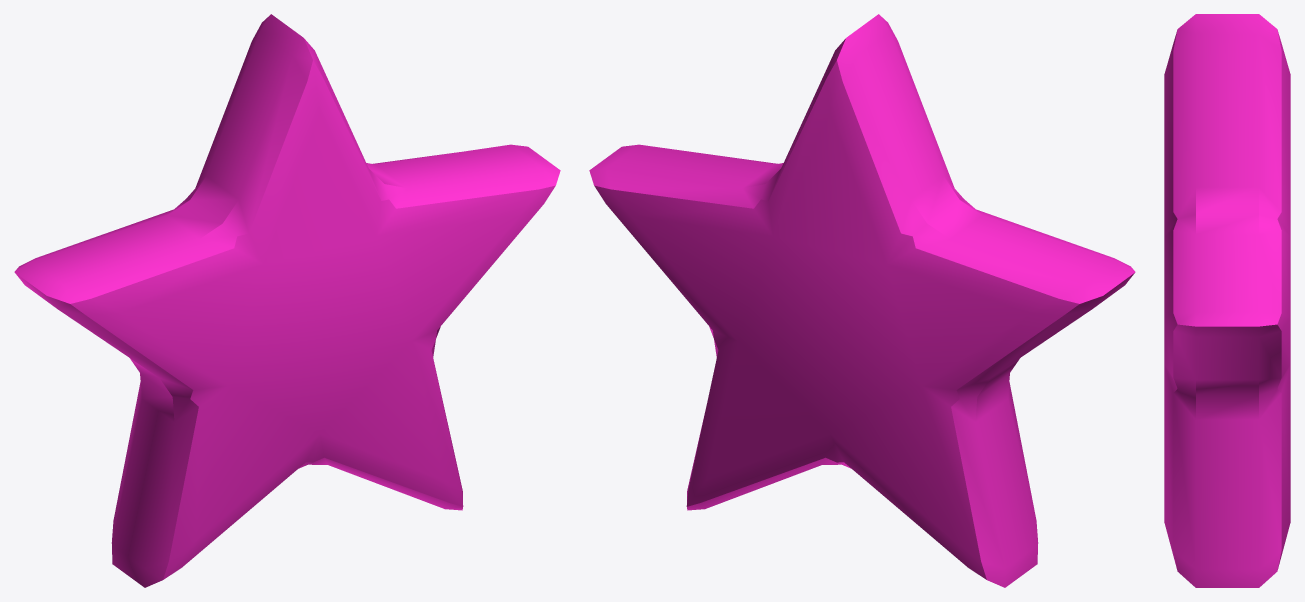
File: yildiz.glb
The picture shows the model from 3 angles, left to right: view 1: azimuth 30°, elevation 25°; view 2: azimuth 150°, elevation 25°; view 3: azimuth 270°, elevation 25°; orthographic projection. The views are drawn at different scales.
Visible parts, largest first — view 1: yildiz; view 2: yildiz; view 3: yildiz.
Boxes of the visible parts, left/top/right/bottom form: yildiz: left=14, top=14, right=560, bottom=587; yildiz: left=589, top=14, right=1135, bottom=587; yildiz: left=1164, top=14, right=1290, bottom=587.
Bounding box in the file's own units: 0.8776 × 0.8346 × 0.1921.
